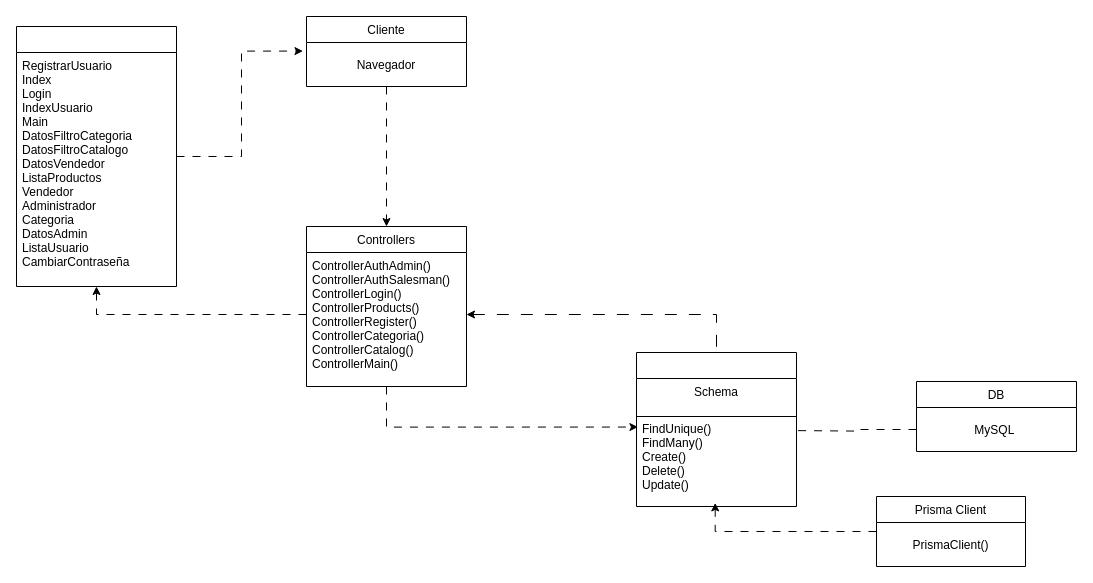
This 1093x583 diagram has some shape labels left out. The shapes that lost their labels are listed below. From the top down, each one's box as (x1, y1, x2, y2) in pixels, then its label:
(16, 26, 176, 286): Vistas
(636, 352, 796, 506): Schema_Models
